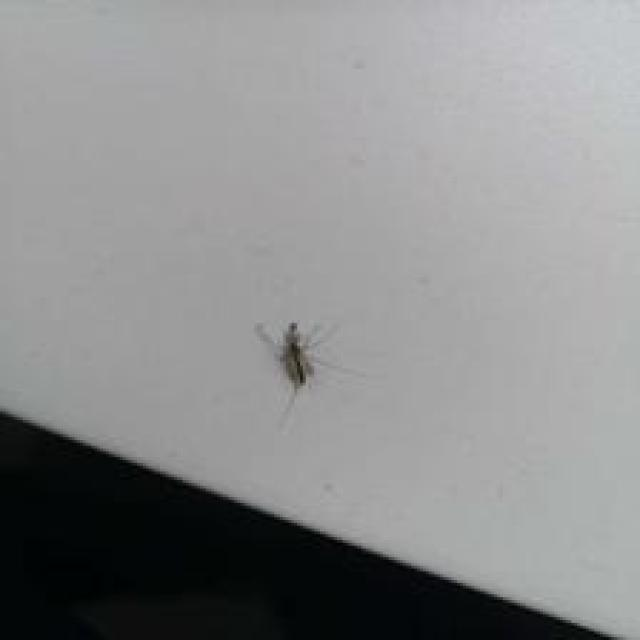Culex: (254, 317, 334, 429)
